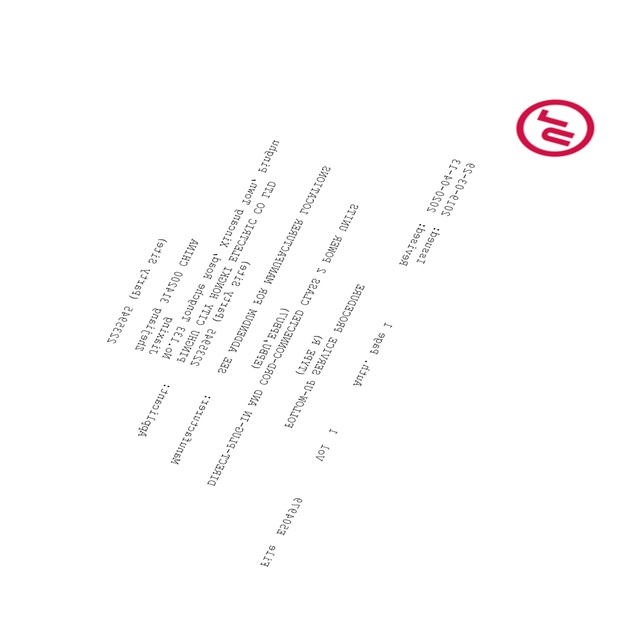ul: (513, 98, 596, 158)
